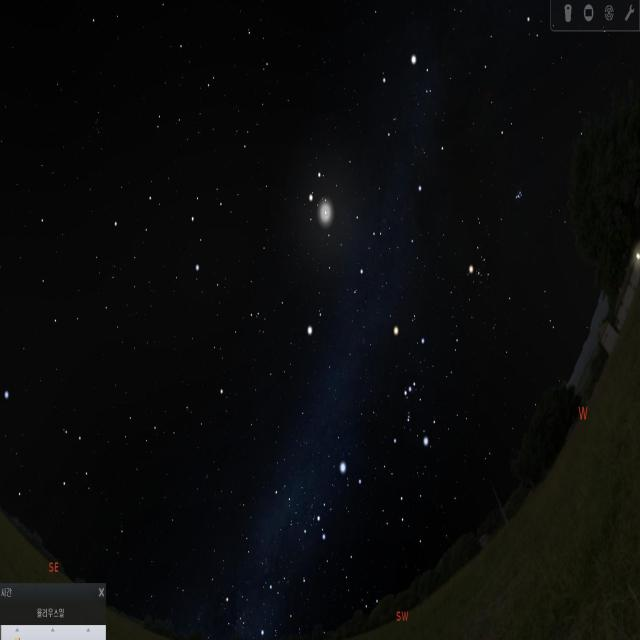canis_major: (307, 456, 367, 542)
canis_minor: (295, 296, 332, 348)
gemini: (306, 160, 386, 296)
leo: (103, 166, 239, 286)
moon: (307, 186, 347, 236)
orion: (381, 318, 435, 464)
pleiades: (507, 184, 526, 208)
taurus: (458, 178, 534, 299)
